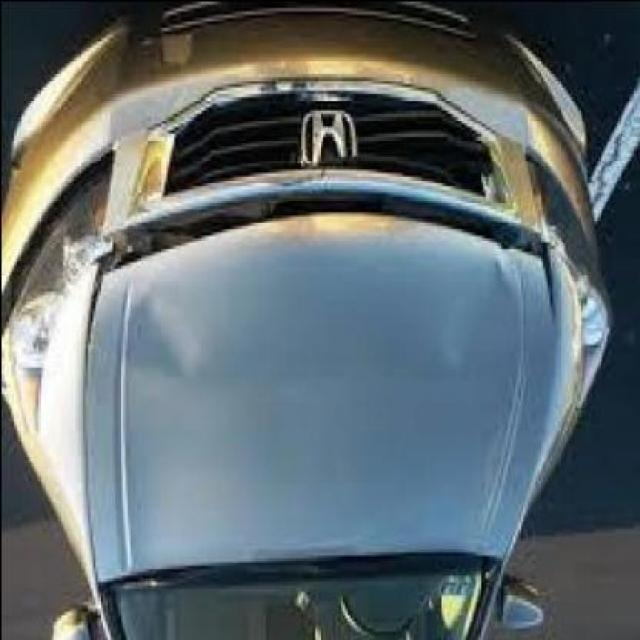damage: (77, 172, 573, 368), (108, 272, 206, 387), (438, 253, 516, 375)
